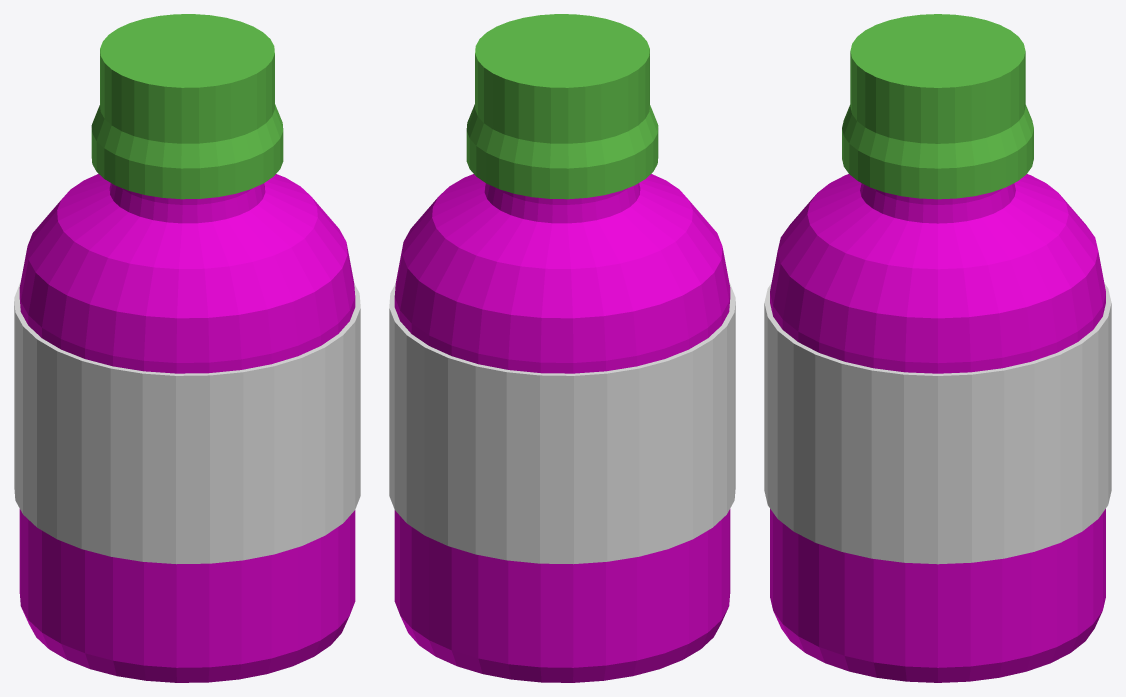
File: Fles1-nonglass_cut.fbx
3 views of the same model, side by side, from view 1: azimuth 30°, elevation 25°; view 2: azimuth 150°, elevation 25°; view 3: azimuth 270°, elevation 25° (orthographic).
Visible parts, largest first — view 1: Cylinder.001, Cylinder.005, Cylinder.002, Cylinder.010, Cylinder.006, Cylinder.009, Cylinder.011, Cylinder.007, Cylinder.014, Cylinder.012, Cylinder, Cylinder.003; view 2: Cylinder.001, Cylinder.002, Cylinder.007, Cylinder.006, Cylinder.014, Cylinder.004, Cylinder.008, Cylinder.013, Cylinder.009, Cylinder.005, Cylinder.010, Cylinder.003 (+1 smaller); view 3: Cylinder.001, Cylinder.002, Cylinder.007, Cylinder.009, Cylinder.003, Cylinder.004, Cylinder.010, Cylinder.005, Cylinder.013, Cylinder.008, Cylinder.015, Cylinder.
Part boxes in pixels (left/top/right/bottom): Cylinder.001: left=14, top=283, right=360, bottom=564; Cylinder.005: left=61, top=256, right=320, bottom=682; Cylinder.002: left=91, top=14, right=283, bottom=199; Cylinder.010: left=109, top=186, right=347, bottom=304; Cylinder.006: left=19, top=195, right=204, bottom=670; Cylinder.009: left=178, top=244, right=355, bottom=639; Cylinder.011: left=239, top=309, right=271, bottom=663; Cylinder.007: left=27, top=174, right=347, bottom=254; Cylinder.014: left=40, top=529, right=66, bottom=659; Cylinder.012: left=89, top=186, right=168, bottom=256; Cylinder: left=122, top=188, right=252, bottom=682; Cylinder.003: left=293, top=615, right=349, bottom=665; Cylinder.001: left=389, top=283, right=735, bottom=564; Cylinder.002: left=466, top=14, right=658, bottom=199; Cylinder.007: left=394, top=174, right=641, bottom=667; Cylinder.006: left=610, top=180, right=722, bottom=675; Cylinder.014: left=451, top=342, right=721, bottom=667; Cylinder.004: left=396, top=218, right=600, bottom=372; Cylinder.008: left=411, top=527, right=636, bottom=682; Cylinder.013: left=416, top=530, right=451, bottom=649; Cylinder.009: left=394, top=510, right=411, bottom=627; Cylinder.005: left=660, top=178, right=730, bottom=635; Cylinder.010: left=639, top=174, right=690, bottom=219; Cylinder.003: left=400, top=615, right=482, bottom=673; Cylinder.001: left=764, top=283, right=1111, bottom=564; Cylinder.002: left=842, top=14, right=1033, bottom=199; Cylinder.007: left=849, top=174, right=1102, bottom=639; Cylinder.009: left=781, top=230, right=1077, bottom=663; Cylinder.003: left=774, top=566, right=1101, bottom=682; Cylinder.004: left=1010, top=195, right=1105, bottom=358; Cylinder.010: left=797, top=174, right=907, bottom=306; Cylinder.005: left=770, top=192, right=819, bottom=623; Cylinder.013: left=1082, top=513, right=1102, bottom=619; Cylinder.008: left=1077, top=532, right=1093, bottom=635; Cylinder.015: left=873, top=191, right=923, bottom=222; Cylinder: left=873, top=188, right=979, bottom=204.
Bounding box in the file's own units: 14.05 × 25.68 × 14.05.
